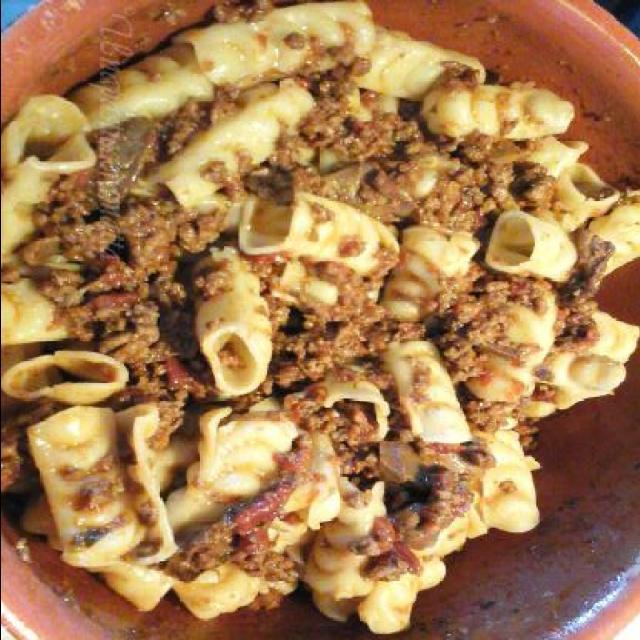Pasta al ragu: (35, 30, 616, 602)
